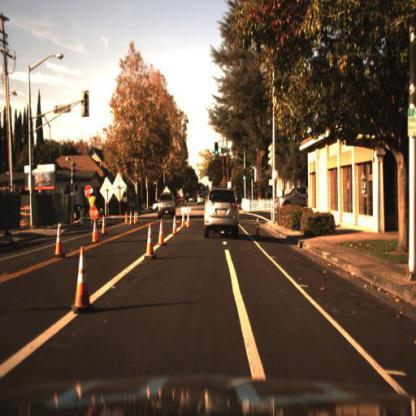car: (201, 186, 241, 243), (282, 186, 313, 207), (158, 190, 176, 222), (196, 193, 208, 210)
pedestrian: (87, 186, 99, 234)
trafficLight-Green: (242, 168, 248, 183), (241, 174, 247, 188), (214, 143, 219, 159)
